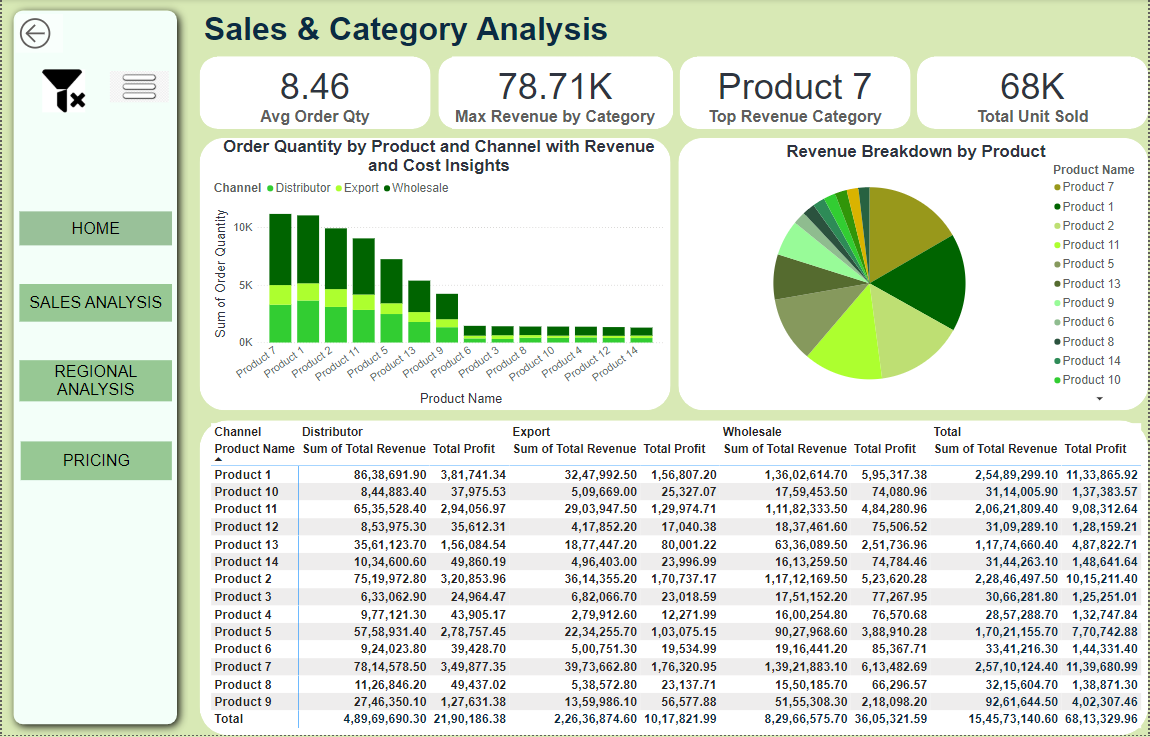

The page's visual inventory and layout, read from the dashboard file:
{"tool":"powerbi","page":{"name":"Sales Analysis","canvas":[1900,1220],"ordinal":1},"visuals":[{"type":"textbox","box":[329.5,14.5,907.5,97.4],"z":0},{"type":"shape","box":[0,0,309.1,1221.3],"z":1000},{"type":"shape","box":[327.4,230,781.2,451.7],"z":2000},{"type":"shape","box":[1121,230,779.1,451.7],"z":3000},{"type":"pieChart","title":"Revenue Breakdown by Product","fields":{"Category":["Sales_Data.Product Name"],"Y":["Sum(Sales_Data.Total Revenue)"]},"box":[1129.2,236.2,770.8,439.3],"z":4000},{"type":"shape","box":[327.4,698.3,1572.7,522.1],"z":5000},{"type":"pivotTable","fields":{"Rows":["Sales_Data.Product Name"],"Columns":["Sales_Data.Channel","Sales_Data.Customer Names"],"Values":["Sum(Sales_Data.Total Revenue)","Sales_Data.Total Profit"]},"box":[341.9,698.3,1558.2,522.1],"z":6000},{"type":"columnChart","title":"Order Quantity by Product and Channel with Revenue and Cost Insights","fields":{"Category":["Sales_Data.Product Name"],"Y":["Sum(Sales_Data.Order Quantity)"],"Series":["Sales_Data.Channel"]},"box":[346,227.9,756.3,451.7],"z":7000},{"type":"shape","box":[327.4,95.3,383.3,120.2],"z":8000},{"type":"card","fields":{"Values":["Sales_Data.Avg Order Qty"]},"box":[356.4,95.3,325.3,120.2],"z":9000},{"type":"shape","box":[723.3,95.3,389.5,120.2],"z":10000},{"type":"card","fields":{"Values":["Sales_Data.Max Revenue by Category"]},"box":[746.1,95.3,341.9,120.2],"z":11000},{"type":"shape","box":[1122.9,95.3,383.3,120.2],"z":12000},{"type":"card","fields":{"Values":["Sales_Data.Top Revenue Category"]},"box":[1151.9,95.3,325.3,120.2],"z":13000},{"type":"shape","box":[1516.7,95.3,383.3,120.2],"z":14000},{"type":"card","fields":{"Values":["Sales_Data.Total Unit Sold"]},"box":[1545.7,95.3,325.3,120.2],"z":15000},{"type":"actionButton","box":[22.8,24.9,78.7,64.2],"z":16000},{"type":"actionButton","box":[29,352.2,252.8,55.9],"z":17000},{"type":"actionButton","box":[29,472.4,252.8,62.2],"z":18000},{"type":"actionButton","box":[29,598.8,252.8,68.4],"z":19000},{"type":"actionButton","box":[31.1,733.5,250.7,64.2],"z":20000},{"type":"image","box":[174,95.3,107.7,99.5],"z":22000},{"type":"actionButton","box":[178.2,95.3,101.5,103.6],"z":23000},{"type":"image","box":[53.9,111.9,97.4,80.8],"z":24000}]}

Visuals, with their boxes on the page's 1900x1220 design canvas (x1, y1, x2, y2). These are canvas units, not pixel positions in the 1150x737 screenshot, which may show the page scaled, cropped or inside an application window:
textbox: 330 14 1237 112
shape: 0 0 309 1221
shape: 327 230 1109 682
shape: 1121 230 1900 682
"Revenue Breakdown by Product" pieChart: 1129 236 1900 676
shape: 327 698 1900 1220
pivotTable - Sales_Data.Product Name x Sales_Data.Channel: 342 698 1900 1220
"Order Quantity by Product and Channel with Revenue and Cost Insights" columnChart: 346 228 1102 680
shape: 327 95 711 216
card - Sales_Data.Avg Order Qty: 356 95 682 216
shape: 723 95 1113 216
card - Sales_Data.Max Revenue by Category: 746 95 1088 216
shape: 1123 95 1506 216
card - Sales_Data.Top Revenue Category: 1152 95 1477 216
shape: 1517 95 1900 216
card - Sales_Data.Total Unit Sold: 1546 95 1871 216
actionButton: 23 25 102 89
actionButton: 29 352 282 408
actionButton: 29 472 282 535
actionButton: 29 599 282 667
actionButton: 31 734 282 798
image: 174 95 282 195
actionButton: 178 95 280 199
image: 54 112 151 193
